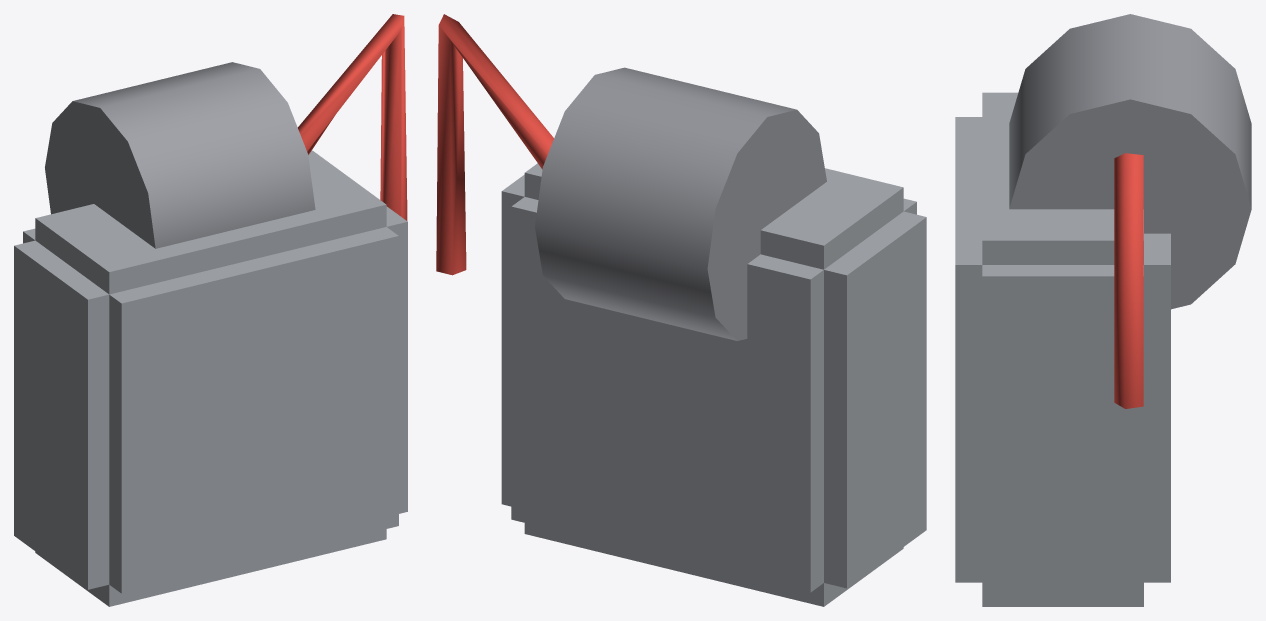
File: chandelier_winch.glb
3 views of the same model, side by side, from view 1: azimuth 30°, elevation 25°; view 2: azimuth 150°, elevation 25°; view 3: azimuth 270°, elevation 25° (orthographic). The views are drawn at different scales.
Visible parts, largest first — view 1: chandelier_winch; view 2: chandelier_winch; view 3: chandelier_winch.
Boxes of the visible parts, left/top/right/bottom form: chandelier_winch: left=14, top=14, right=407, bottom=606; chandelier_winch: left=436, top=14, right=926, bottom=606; chandelier_winch: left=955, top=14, right=1251, bottom=606.
Bounding box in the file's own units: 0.3614 × 0.4081 × 0.22.
